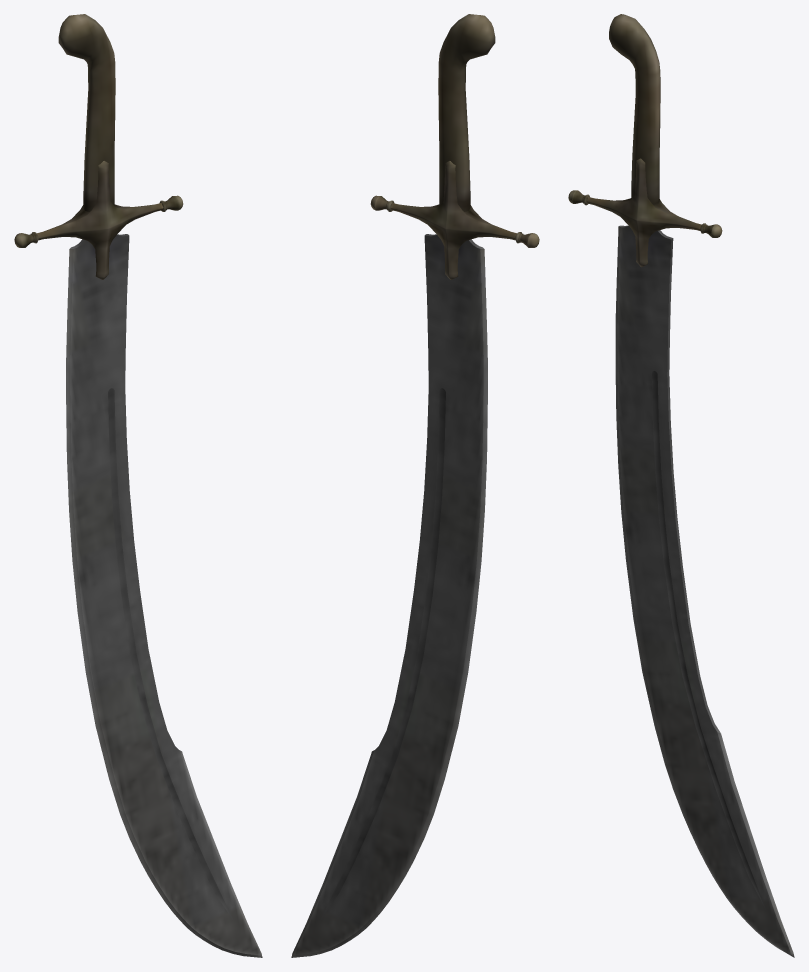
The model's file is weapon-wp_a_0425.glb.
3 renders of one model, left to right at view 1: azimuth 30°, elevation 25°; view 2: azimuth 150°, elevation 25°; view 3: azimuth 330°, elevation 25°, orthographic. The views are drawn at different scales.
Parts seen in each view (by area): view 1: wp_a_0425_mesh; view 2: wp_a_0425_mesh; view 3: wp_a_0425_mesh.
Part boxes in pixels (x1,y1,x2,y2): wp_a_0425_mesh: [14, 14, 262, 957]; wp_a_0425_mesh: [291, 14, 539, 957]; wp_a_0425_mesh: [568, 14, 794, 957].
Size of the model in its own units: 0.326 by 1.24 by 0.0429.
Materials: 1 (1 with a texture image).
